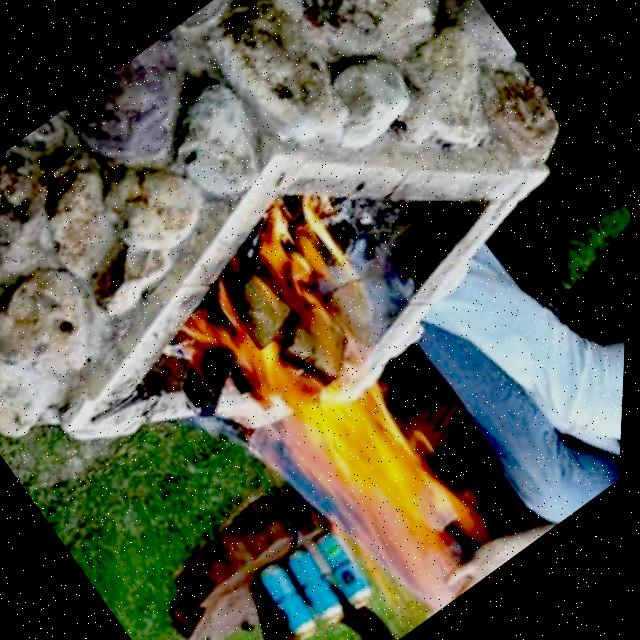Fire: (138, 178, 562, 632)
